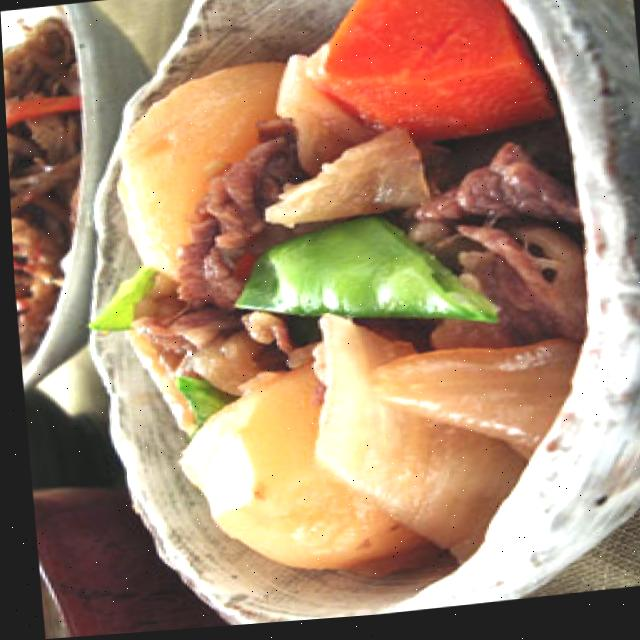牛肉菜式: (51, 0, 640, 637)
